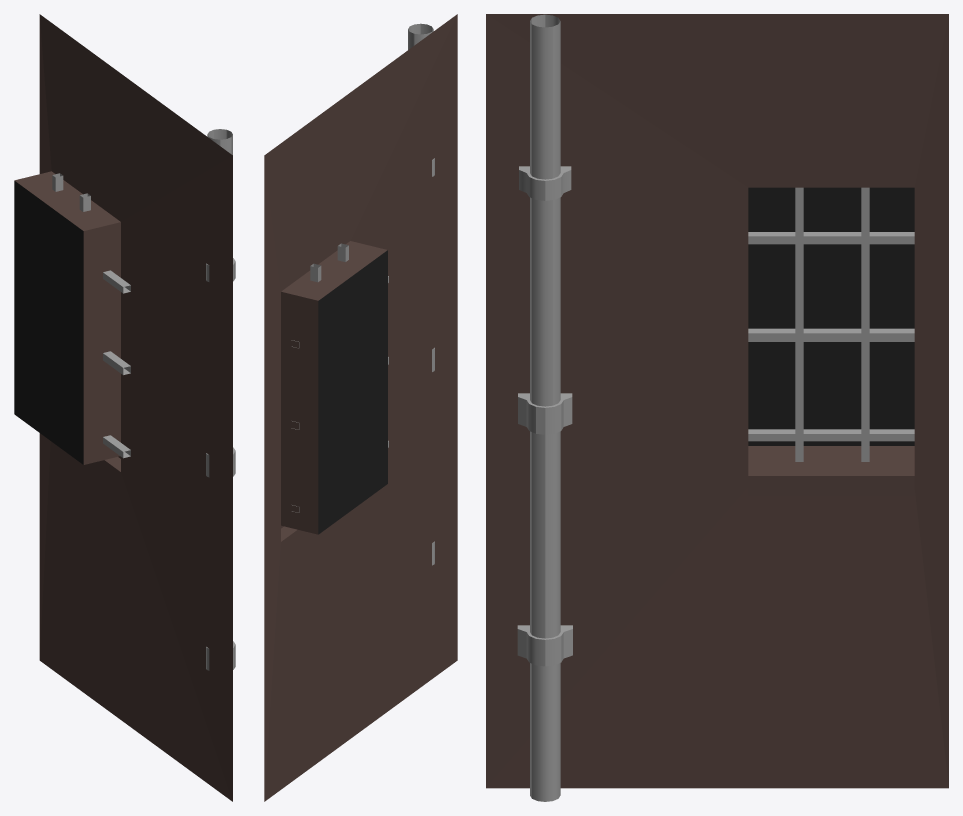
File: houseWall_8.fbx
The picture shows the model from 3 angles, left to right: view 1: azimuth 30°, elevation 25°; view 2: azimuth 150°, elevation 25°; view 3: azimuth 270°, elevation 25°; orthographic projection. The views are drawn at different scales.
Parts seen in each view (by area): view 1: houseWall_8; view 2: houseWall_8; view 3: houseWall_8.
Boxes of the visible parts, bbox=[...] form: houseWall_8: bbox=[14, 14, 235, 801]; houseWall_8: bbox=[264, 14, 457, 801]; houseWall_8: bbox=[486, 14, 948, 801].
Bounding box in the file's own units: 50.67 × 480 × 260.
